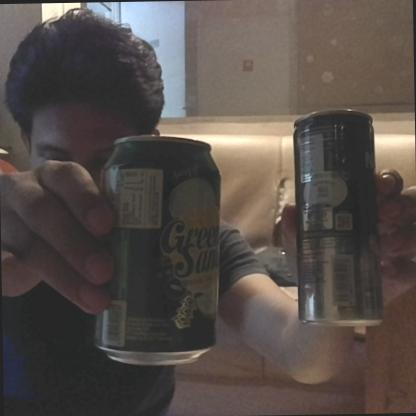alumunium_can: (93, 134, 226, 370), (292, 108, 383, 327)
